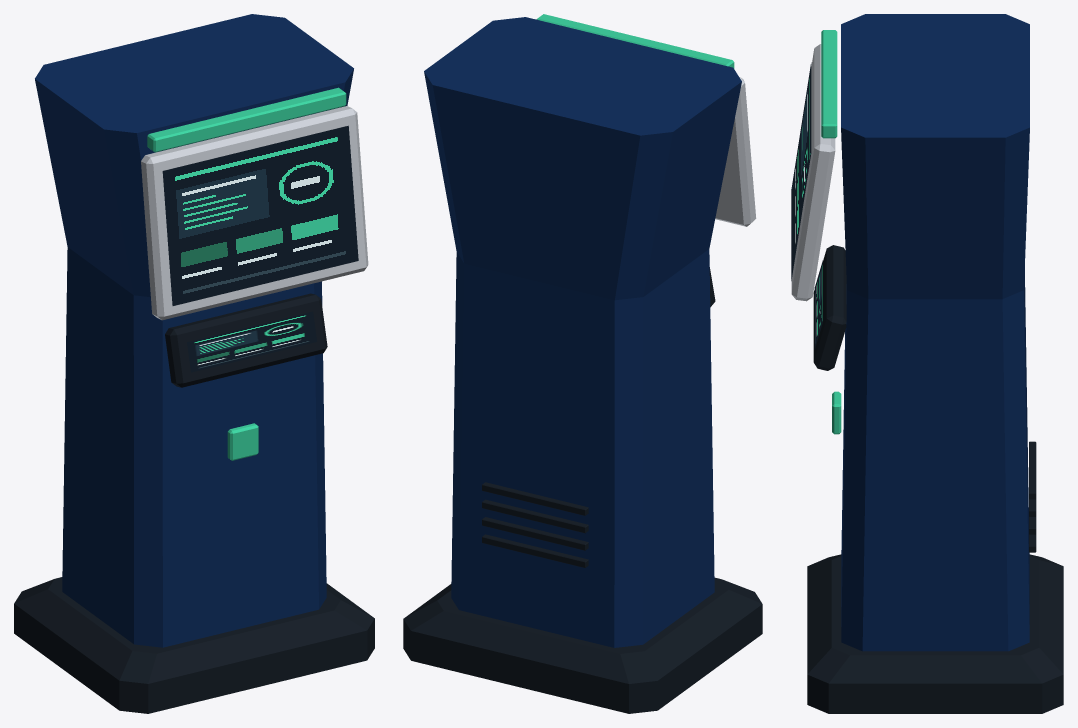
Rendered from terminal-pedestal-standard-daeyang.glb.
The picture shows the model from 3 angles, left to right: view 1: azimuth 30°, elevation 25°; view 2: azimuth 150°, elevation 25°; view 3: azimuth 270°, elevation 25°; orthographic projection.
Parts seen in each view (by area): view 1: Housing, Rubber, Display, Trim, Identity; view 2: Housing, Rubber, Trim, Identity; view 3: Housing, Rubber, Trim, Display, Identity.
Boxes of the visible parts, <box> form: Housing: <box>35,14,353,647</box>; Rubber: <box>14,293,374,713</box>; Display: <box>162,125,358,372</box>; Trim: <box>141,106,368,320</box>; Identity: <box>147,87,346,460</box>; Housing: <box>424,17,741,647</box>; Rubber: <box>403,267,762,713</box>; Trim: <box>715,77,756,226</box>; Identity: <box>536,14,734,68</box>; Housing: <box>841,14,1029,651</box>; Rubber: <box>807,245,1063,713</box>; Trim: <box>791,44,835,301</box>; Display: <box>791,62,822,349</box>; Identity: <box>821,30,841,434</box>.
Bounding box in the file's own units: 0.49 × 1.04 × 0.4463.
5 materials, 1 textured.
